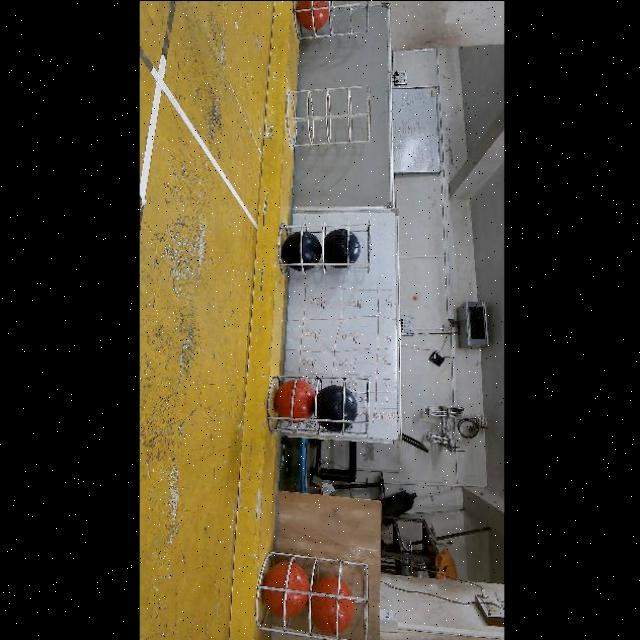P: (317, 384, 357, 432), (282, 230, 322, 271), (323, 228, 361, 267)
R: (262, 560, 307, 617), (311, 576, 355, 634), (274, 378, 316, 423), (297, 0, 330, 30)
S: (256, 548, 370, 636), (270, 364, 372, 441), (287, 84, 381, 148), (282, 214, 373, 274), (288, 0, 374, 40)
